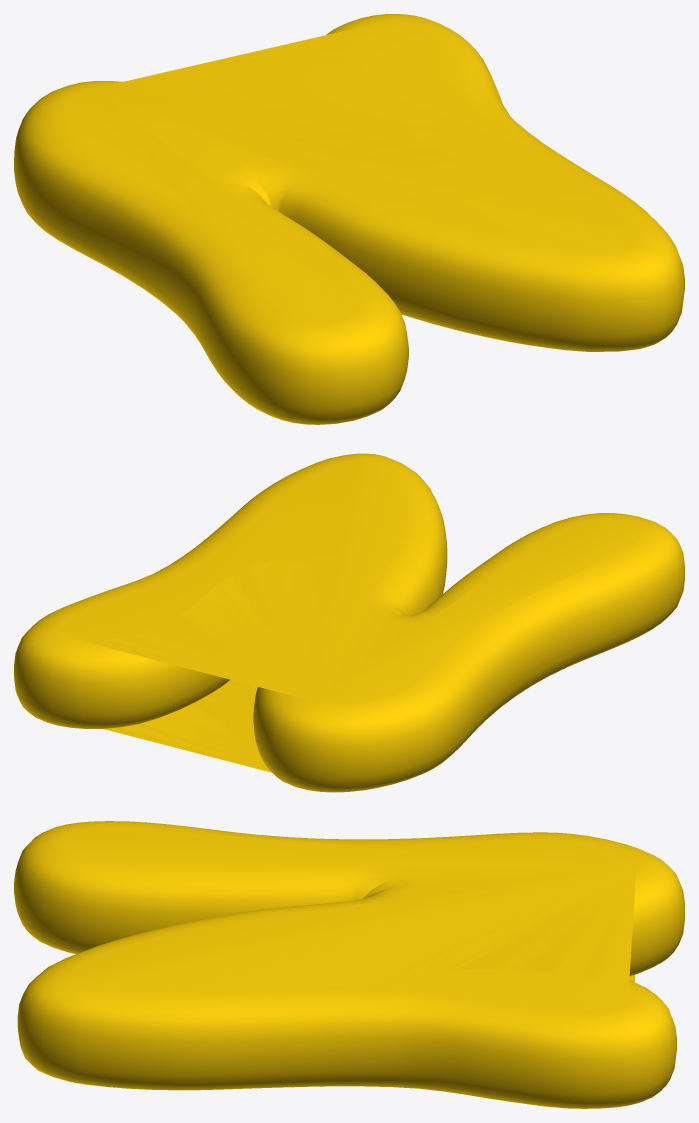
3 views of the same model, one above another, from view 1: azimuth 30°, elevation 25°; view 2: azimuth 150°, elevation 25°; view 3: azimuth 270°, elevation 25° (orthographic). The views are drawn at different scales.
Visible parts, largest first — view 1: Curve.015; view 2: Curve.015; view 3: Curve.015.
Boxes of the visible parts, left/top/right/bottom form: Curve.015: left=14, top=14, right=684, bottom=424; Curve.015: left=14, top=453, right=684, bottom=792; Curve.015: left=14, top=821, right=684, bottom=1108.
Bounding box in the file's own units: 266 × 49.54 × 335.
Materials: 1 (1 with a texture image).
